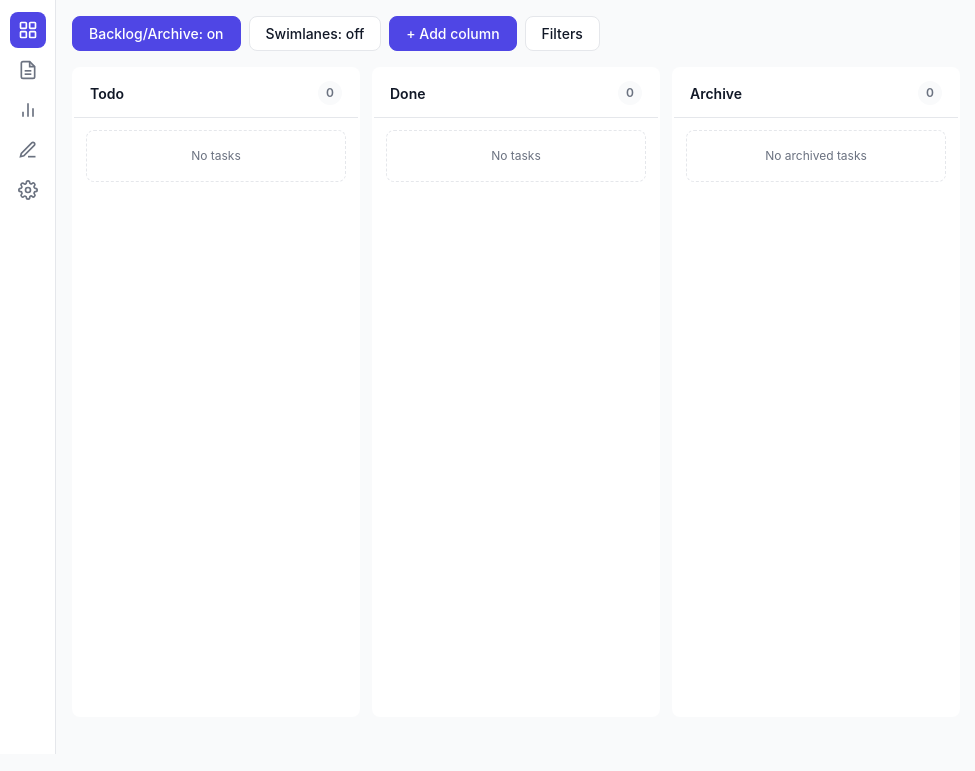
Test: BoardPage › toggles archive visibility when the Archive button is clicked
Expected: the number of "Column" components is 2, [72,67,360,717]; [372,67,660,717]
Click the button with class "board__toggle". click: (156, 34)
box: [72,16,240,51]
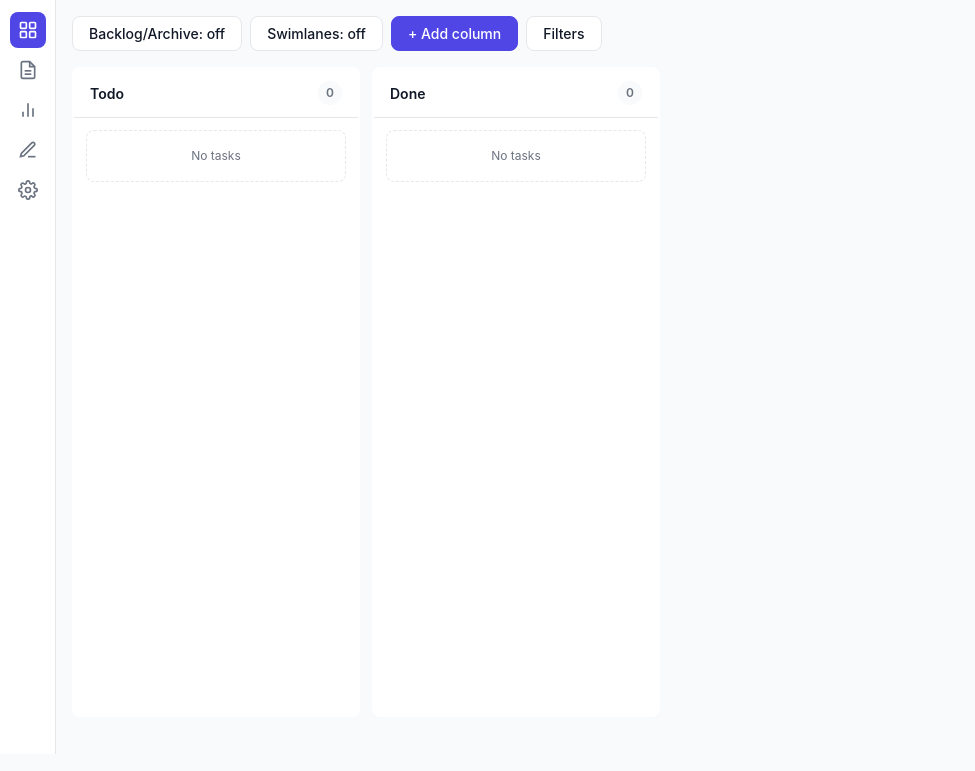
Expected: the number of "Column" components is 2, [72,67,360,717]; [372,67,660,717]
Result: the button with class "board__toggle" shows "off" at [72,16,242,51]
